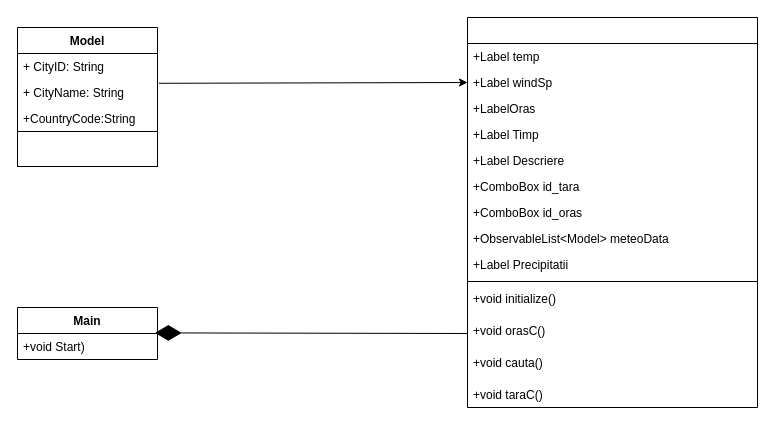
Image size: 775x428. Some labels were removed from this diagram. Each missing label, with the box of its shape:
+getCountryCode() +getCityName(): (16, 130, 158, 166)
Controller: (466, 16, 758, 408)
